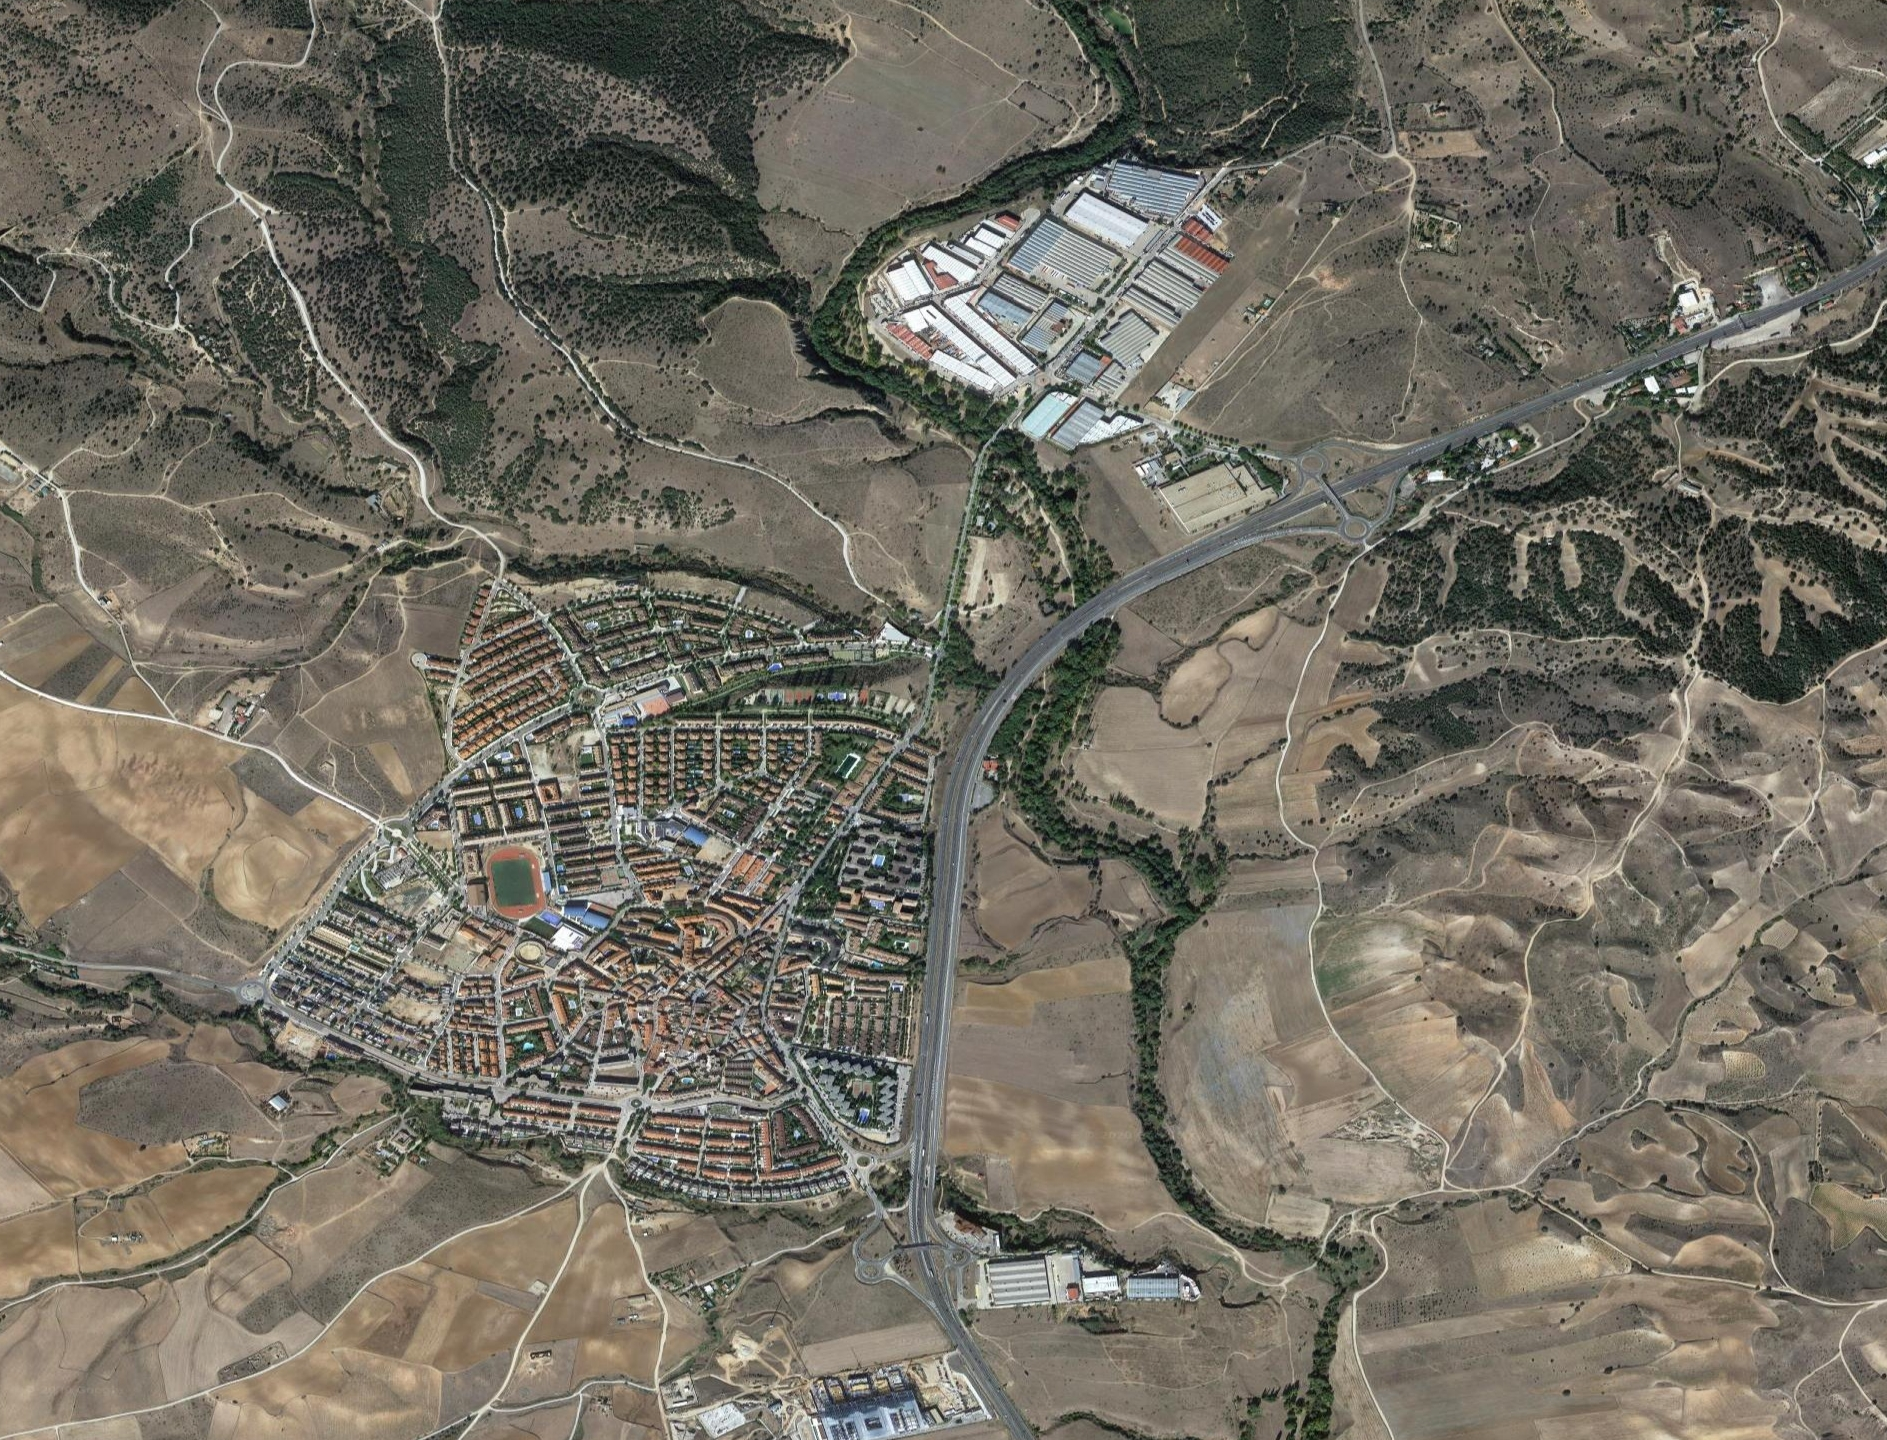industrial: (886, 157, 1208, 454)
motorway: (886, 614, 1077, 1440), (1328, 216, 1887, 473), (1064, 461, 1439, 644)
